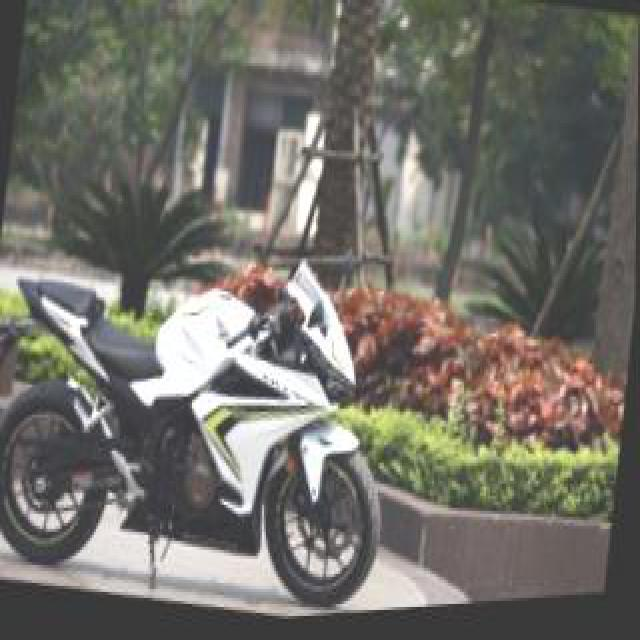CBR500R: (0, 195, 404, 637)
